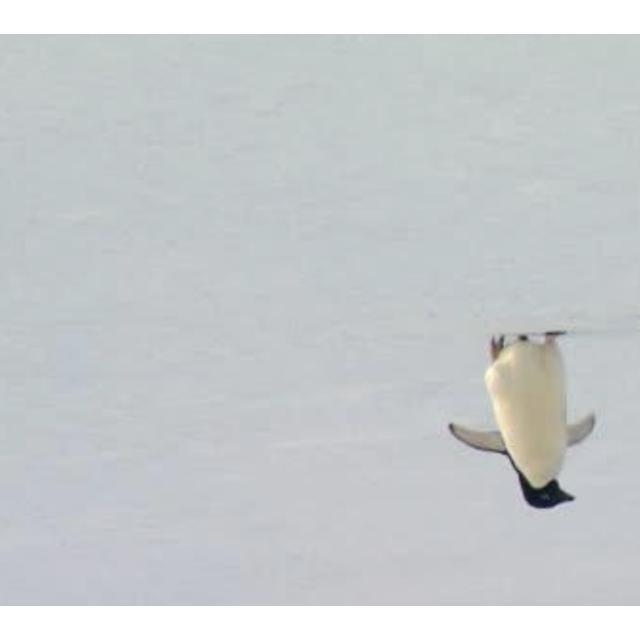penguin: (447, 329, 597, 509)
